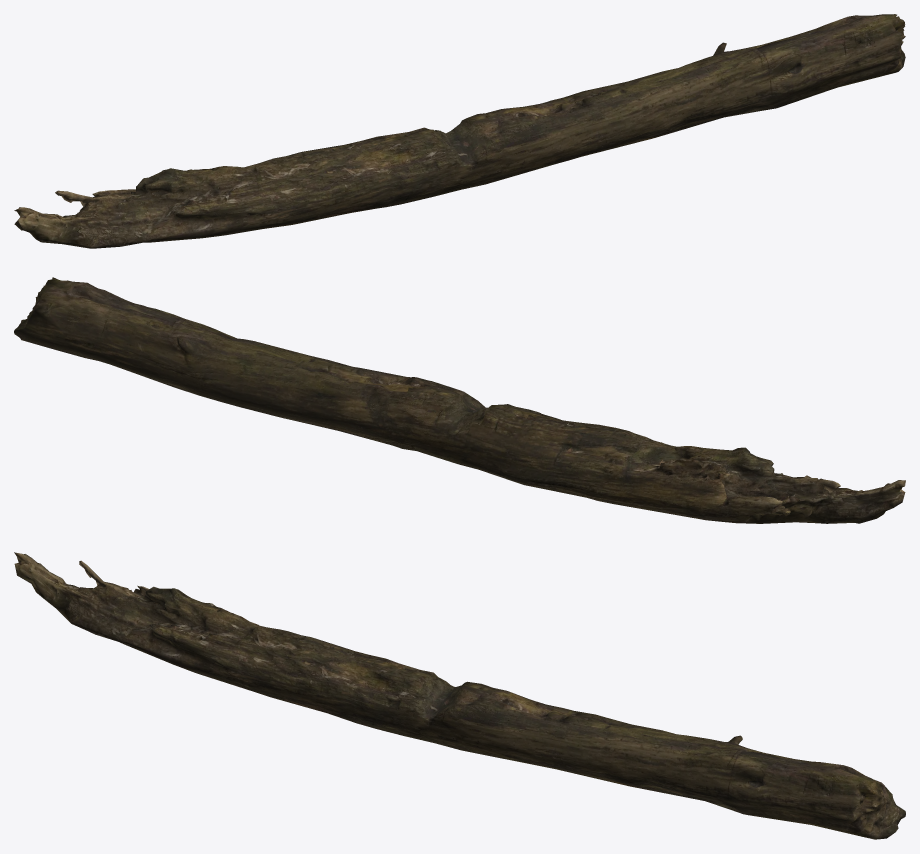
Rendered from ph_dead_tree_trunk.glb.
3 renders of one model, top to bottom at view 1: azimuth 30°, elevation 25°; view 2: azimuth 150°, elevation 25°; view 3: azimuth 330°, elevation 25°, orthographic.
Visible parts, largest first — view 1: dead_tree_trunk; view 2: dead_tree_trunk; view 3: dead_tree_trunk.
Part boxes in pixels (<box>): dead_tree_trunk: <box>14,14,905,248</box>; dead_tree_trunk: <box>14,277,905,523</box>; dead_tree_trunk: <box>14,552,905,839</box>.
Size of the model in its own units: 3.05 by 0.2875 by 0.2774.
1 material, 1 textured.
